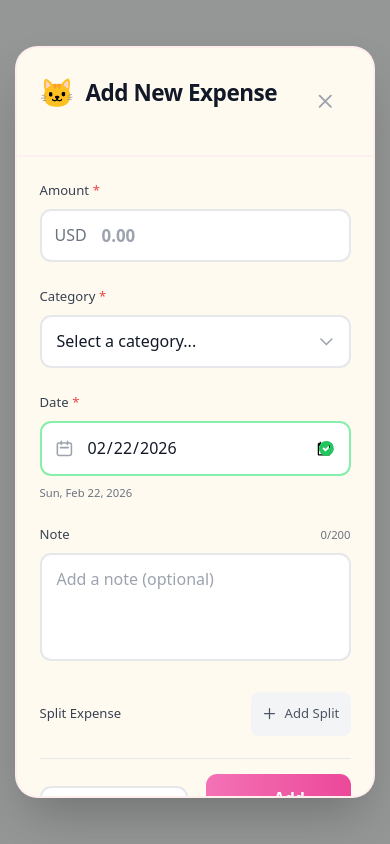
Test: ExpenseFormModal › Loading State › should show loading overlay during submission
Note: Fill and submit form
Type "50" into the field named "amount".
click(195, 236); type("50")  # box [40,209,350,262]
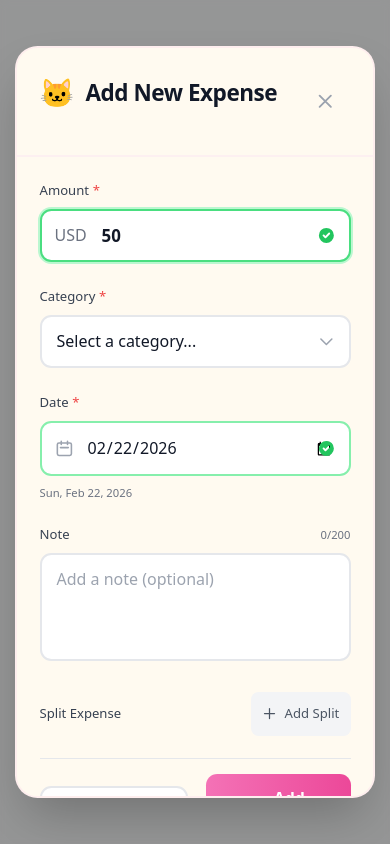
Select "🍜 Food" in the dropdown named "category" at x=195, y=342, box [40,315,350,368]
(page scrolled)
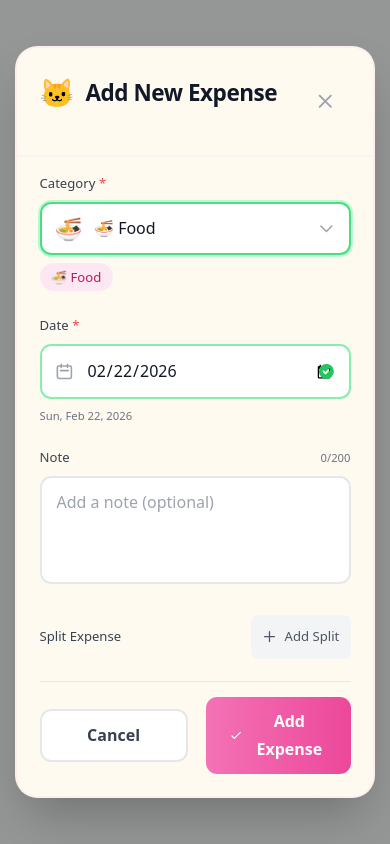
Click the button "Add Expense".
click(278, 736)  # box [206,697,350,774]
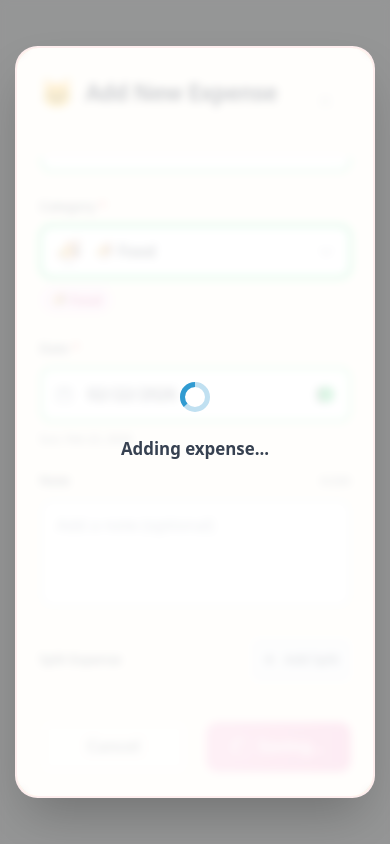
Now the text "Adding expense..." is shown, box [121,435,269,462]
